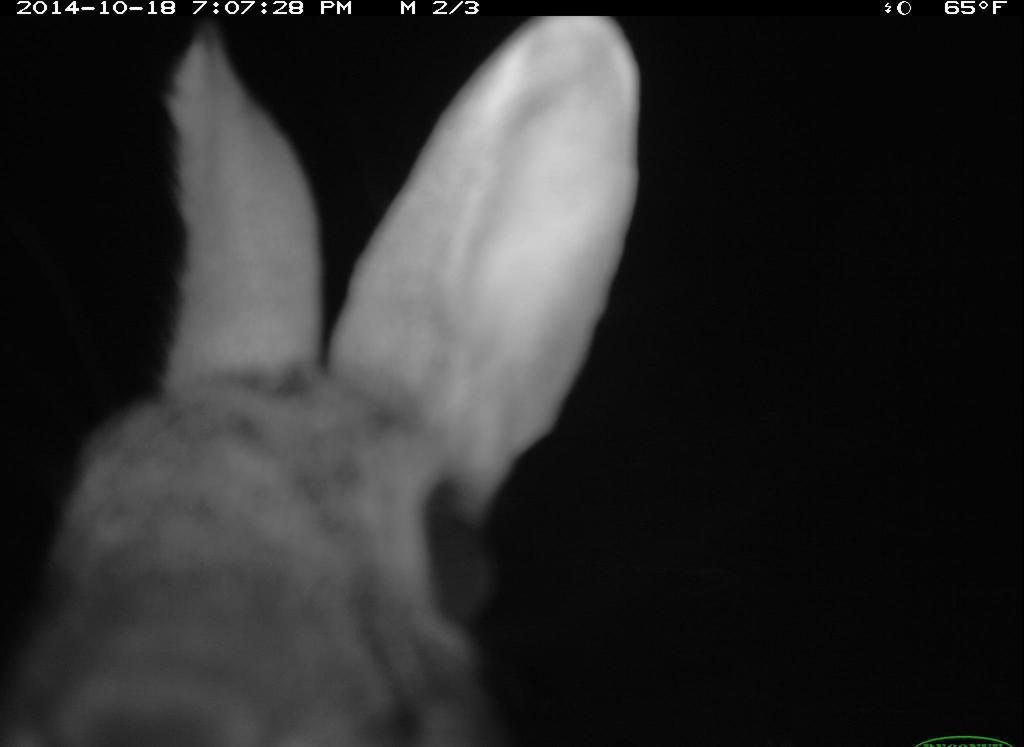rabbit: (1, 11, 660, 747)
